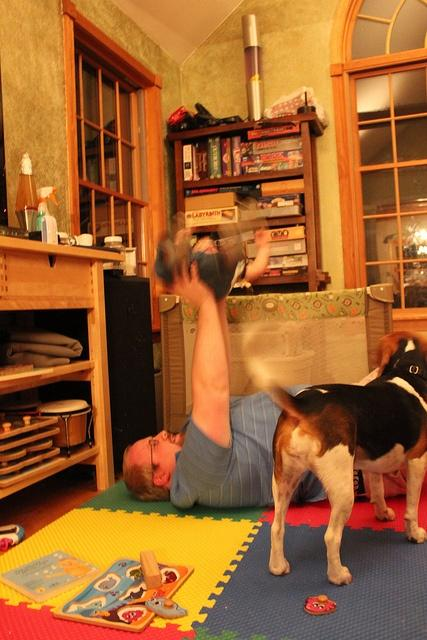Rak: (175, 114, 313, 283)
